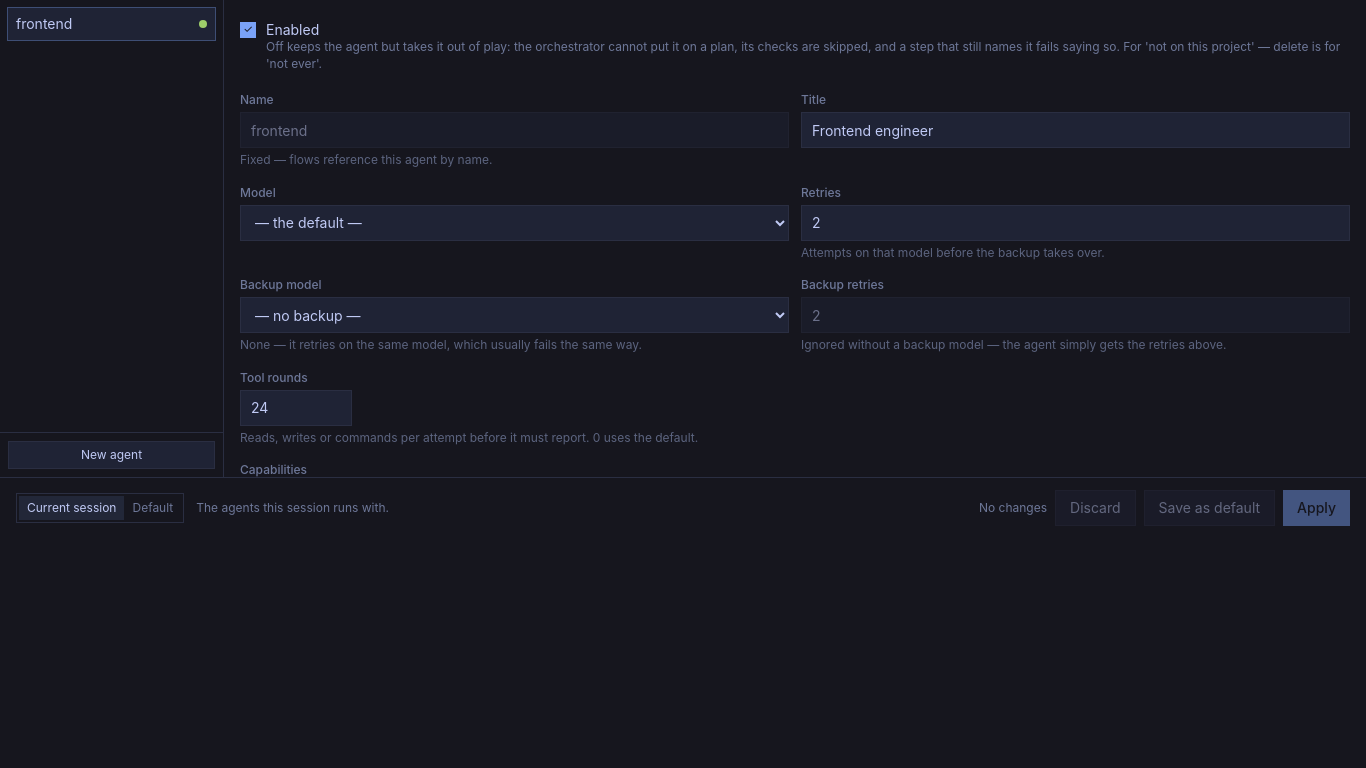
Test case: editing what new projects start from › does not offer it while the defaults are what you are editing
Click the button "Default": (153, 508) top-left (124, 496), bottom-right (181, 520)
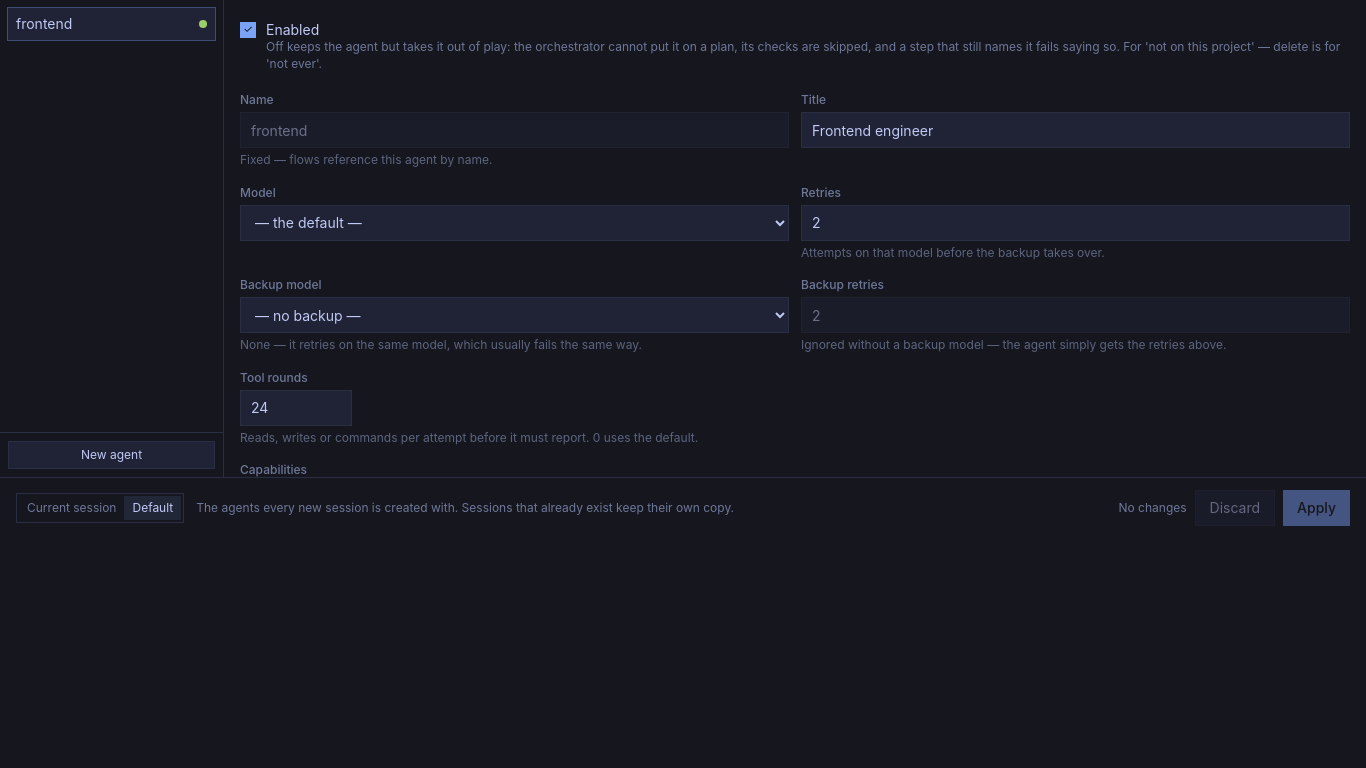
Now the button "Save as default" is gone
